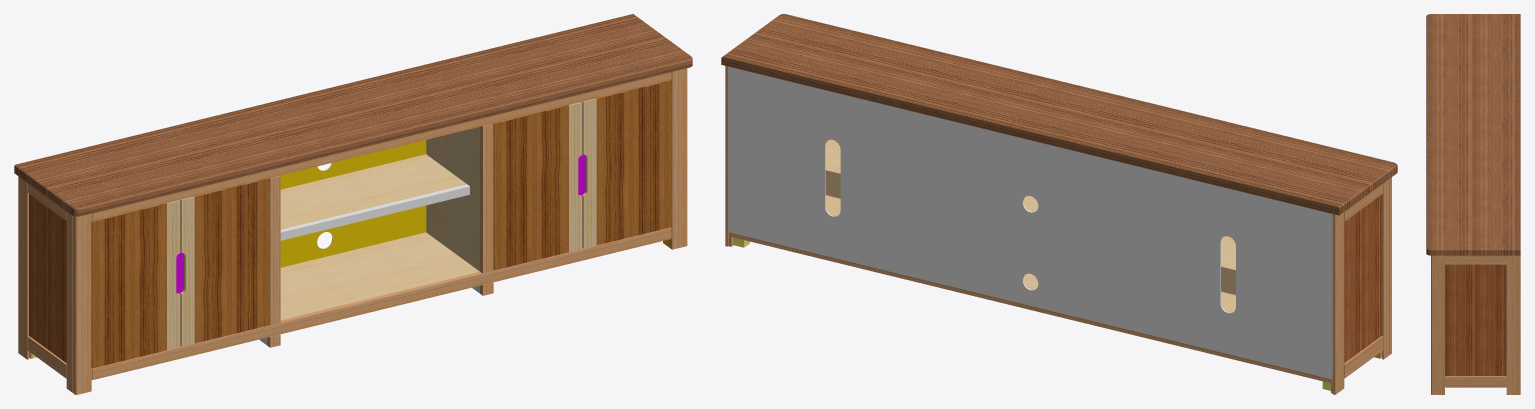
Rendered from IFD8681STN93-mwn21upc.glb.
The picture shows the model from 3 angles, left to right: view 1: azimuth 30°, elevation 25°; view 2: azimuth 150°, elevation 25°; view 3: azimuth 270°, elevation 25°; orthographic projection. The views are drawn at different scales.
Parts seen in each view (by area): view 1: 8681CNS14MM-TABLERO PUERTA1-1 (×4), IFD8681STN93- CUBIERTA-1, IFD8681STN93- PISO-1, NVA8681CNS1-PUERTA 4MM1-1/8681CNS14MM-POSTE PUERTA1-2 (×4), IFD8681STN93- HUACAL FRONTAL-1/IFD8681STN93- ARMADOR INFERIO, IFD8681STN93- ENTREPAÑO CENTRAL-1, IFD8681STN93- RESPALDO-1, IFD8681STN93- HUACAL LATERAL-2/IFD8681STN93- TABLERO DE COST, IFD8681STN93- DIVISIÓN-3, IFD8681STN93- HUACAL FRONTAL-1/IFD8681STN93- ARMADOR SUPERIO, IFD8681STN93- HUACAL FRONTAL-1/IFD8681STN93- POSTE FRONTAL-2, IFD8681STN93- HUACAL FRONTAL-1/IFD8681STN93- POSTE FRONTAL-1 (+6 smaller); view 2: IFD8681STN93- RESPALDO-1, IFD8681STN93- CUBIERTA-1, IFD8681STN93- HUACAL LATERAL-2/IFD8681STN93- TABLERO DE COST, IFD8681STN93- ARMADOR DE RESPALDO-1, IFD8681STN93- HUACAL LATERAL-2/IFD8681STN93- POSTE POSTERIOR, IFD8681STN93- HUACAL LATERAL-2/IFD8681STN93- POSTE COSTADO-2, IFD8681STN93- PISO-1, IFD8681STN93- HUACAL LATERAL-2/IFD8681STN93- ARMADOR COSTADO, IFD8681STN93- HUACAL LATERAL-3/IFD8681STN93- POSTE POSTERIOR; view 3: IFD8681STN93- CUBIERTA-1, IFD8681STN93- HUACAL LATERAL-3/IFD8681STN93- TABLERO DE COST, IFD8681STN93- HUACAL LATERAL-3/IFD8681STN93- POSTE POSTERIOR, IFD8681STN93- HUACAL LATERAL-3/IFD8681STN93- POSTE COSTADO-2, IFD8681STN93- HUACAL LATERAL-3/IFD8681STN93- ARMADOR COSTADO (×2), IFD8681STN93- HUACAL FRONTAL-1/IFD8681STN93- POSTE FRONTAL-1.
Boxes of the visible parts, <box> form: 8681CNS14MM-TABLERO PUERTA1-1 (×4): <box>91,80,671,368</box>; IFD8681STN93- CUBIERTA-1: <box>14,14,692,216</box>; IFD8681STN93- PISO-1: <box>280,232,479,319</box>; NVA8681CNS1-PUERTA 4MM1-1/8681CNS14MM-POSTE PUERTA1-2 (×4): <box>167,98,596,350</box>; IFD8681STN93- HUACAL FRONTAL-1/IFD8681STN93- ARMADOR INFERIO: <box>91,227,671,379</box>; IFD8681STN93- ENTREPAÑO CENTRAL-1: <box>280,154,466,229</box>; IFD8681STN93- RESPALDO-1: <box>280,140,426,267</box>; IFD8681STN93- HUACAL LATERAL-2/IFD8681STN93- TABLERO DE COST: <box>29,194,66,362</box>; IFD8681STN93- DIVISIÓN-3: <box>426,127,479,271</box>; IFD8681STN93- HUACAL FRONTAL-1/IFD8681STN93- ARMADOR SUPERIO: <box>91,72,671,221</box>; IFD8681STN93- HUACAL FRONTAL-1/IFD8681STN93- POSTE FRONTAL-2: <box>72,213,91,394</box>; IFD8681STN93- HUACAL FRONTAL-1/IFD8681STN93- POSTE FRONTAL-1: <box>669,68,687,249</box>; IFD8681STN93- RESPALDO-1: <box>728,66,1332,379</box>; IFD8681STN93- CUBIERTA-1: <box>721,14,1397,215</box>; IFD8681STN93- HUACAL LATERAL-2/IFD8681STN93- TABLERO DE COST: <box>1344,194,1381,362</box>; IFD8681STN93- ARMADOR DE RESPALDO-1: <box>731,233,1330,383</box>; IFD8681STN93- HUACAL LATERAL-2/IFD8681STN93- POSTE POSTERIOR: <box>1331,212,1344,394</box>; IFD8681STN93- HUACAL LATERAL-2/IFD8681STN93- POSTE COSTADO-2: <box>1378,179,1389,359</box>; IFD8681STN93- PISO-1: <box>825,195,1235,312</box>; IFD8681STN93- HUACAL LATERAL-2/IFD8681STN93- ARMADOR COSTADO: <box>1344,336,1383,378</box>; IFD8681STN93- HUACAL LATERAL-3/IFD8681STN93- POSTE POSTERIOR: <box>725,66,733,246</box>; IFD8681STN93- CUBIERTA-1: <box>1426,14,1520,255</box>; IFD8681STN93- HUACAL LATERAL-3/IFD8681STN93- TABLERO DE COST: <box>1445,264,1506,375</box>; IFD8681STN93- HUACAL LATERAL-3/IFD8681STN93- POSTE POSTERIOR: <box>1506,255,1520,394</box>; IFD8681STN93- HUACAL LATERAL-3/IFD8681STN93- POSTE COSTADO-2: <box>1435,255,1444,394</box>; IFD8681STN93- HUACAL LATERAL-3/IFD8681STN93- ARMADOR COSTADO (×2): <box>1445,255,1506,387</box>; IFD8681STN93- HUACAL FRONTAL-1/IFD8681STN93- POSTE FRONTAL-1: <box>1431,255,1435,394</box>.
Bounding box in the file's own units: 2.36 × 0.688 × 0.4.
Materials: 16 (5 with a texture image).
